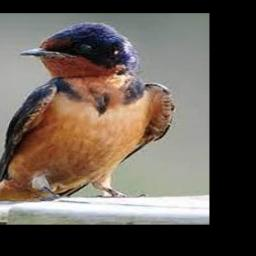Swallow: (0, 21, 176, 201)
